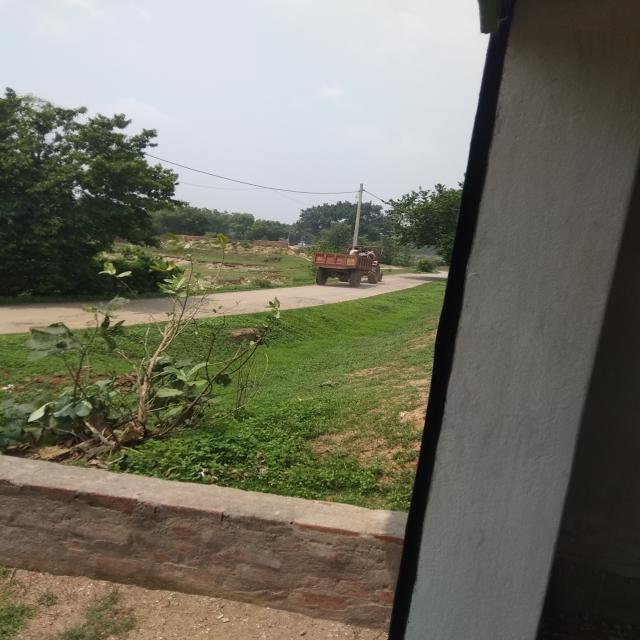tractor: (309, 242, 388, 288)
